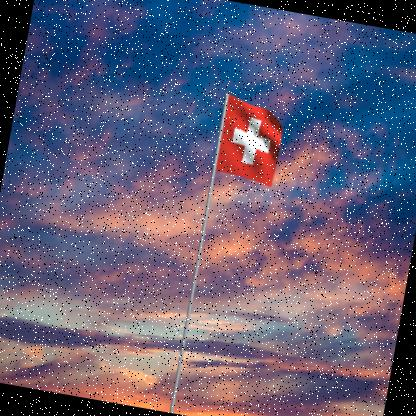ch: (215, 95, 289, 189)
